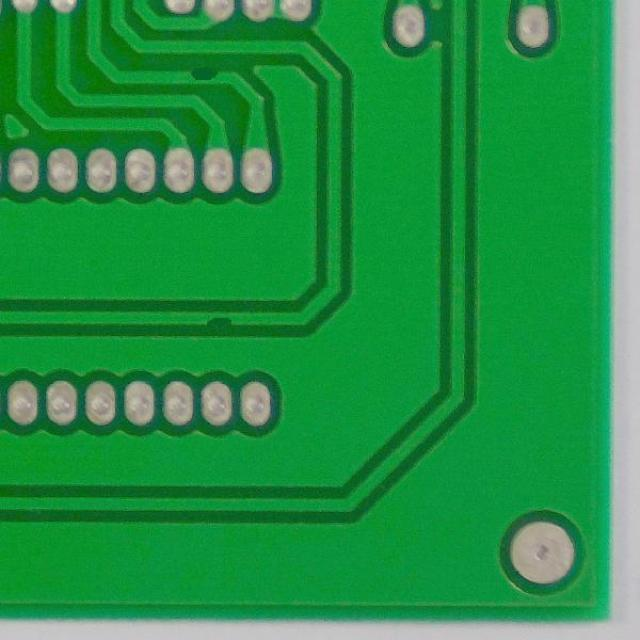MouseBite: (177, 64, 228, 89), (197, 306, 240, 330)
